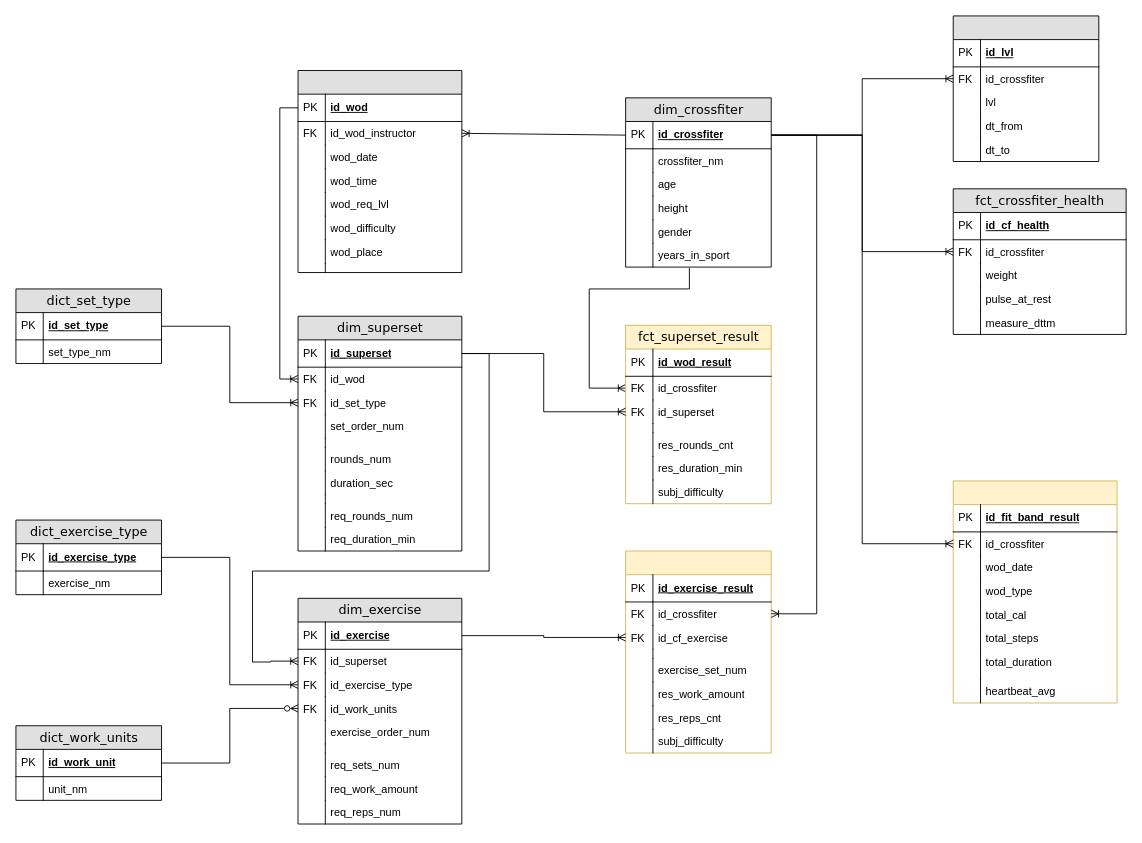
The diagram is 1142 pixels wide and 843 high, and some of its shapes have lost their labels. Each missing label, with the box of its shape:
dim_workout: (297, 70, 462, 273)
fct_crossfiter_lvl: (952, 15, 1099, 162)
fct_exercise_result: (625, 550, 771, 753)
fct_fit_band_result: (952, 480, 1117, 703)
